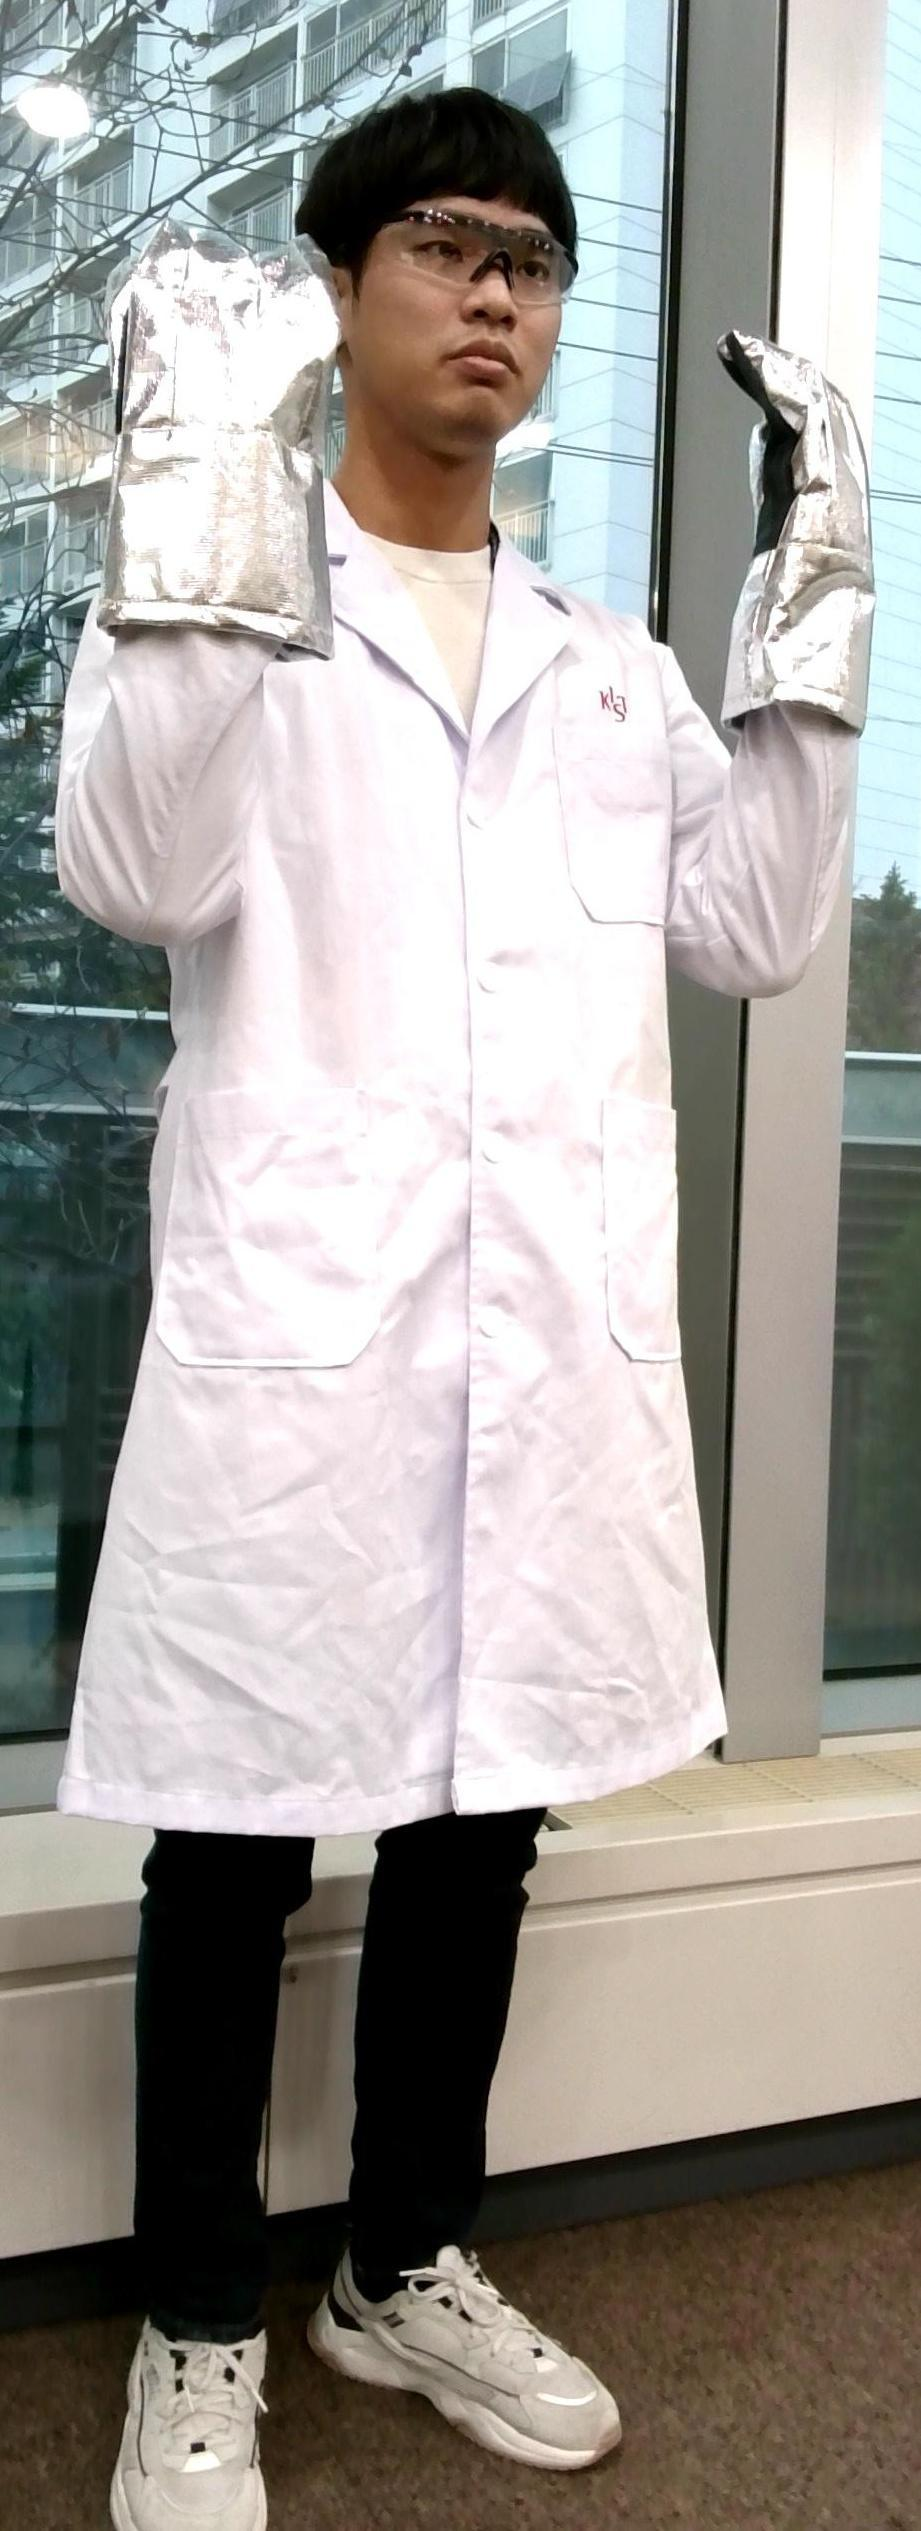lab_coat: (85, 600, 742, 1793)
